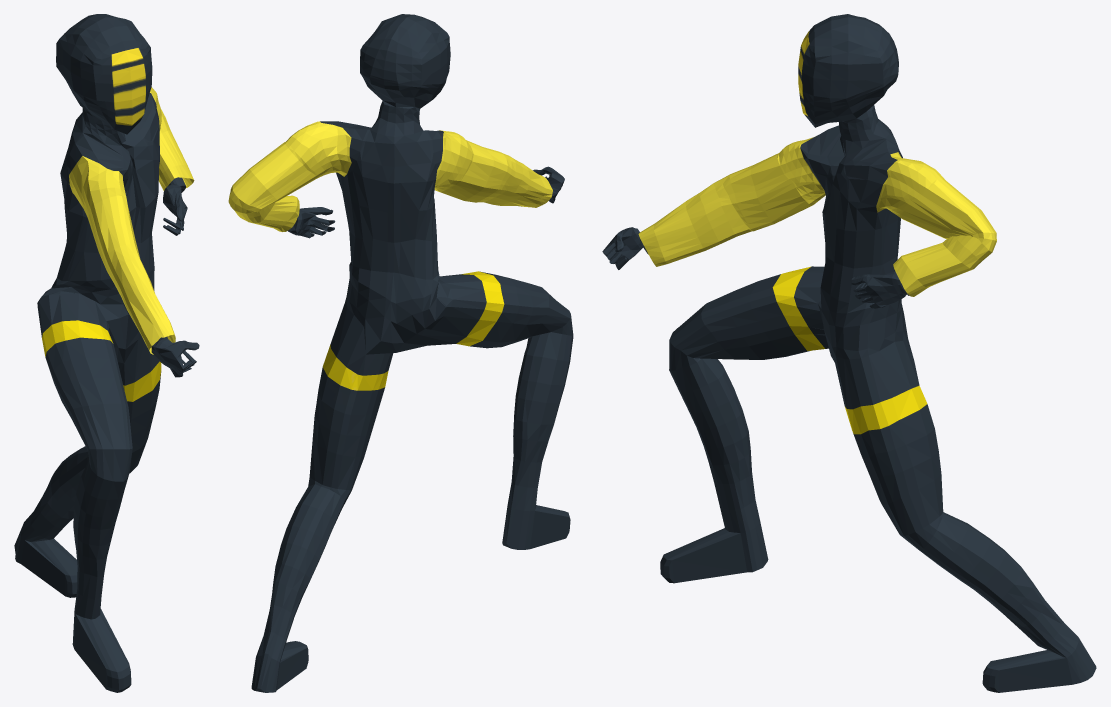
Rendered from Sentry_WL_000022.obj.
3 renders of one model, left to right at view 1: azimuth 30°, elevation 25°; view 2: azimuth 150°, elevation 25°; view 3: azimuth 270°, elevation 25°, orthographic. The views are drawn at different scales.
Parts seen in each view (by area): view 1: Cube; view 2: Cube; view 3: Cube.
Boxes of the visible parts, left/top/right/bottom form: Cube: left=14, top=14, right=199, bottom=692; Cube: left=228, top=14, right=573, bottom=692; Cube: left=602, top=14, right=1096, bottom=692.
Size of the model in its own units: 1.27 by 3.6 by 2.48.
